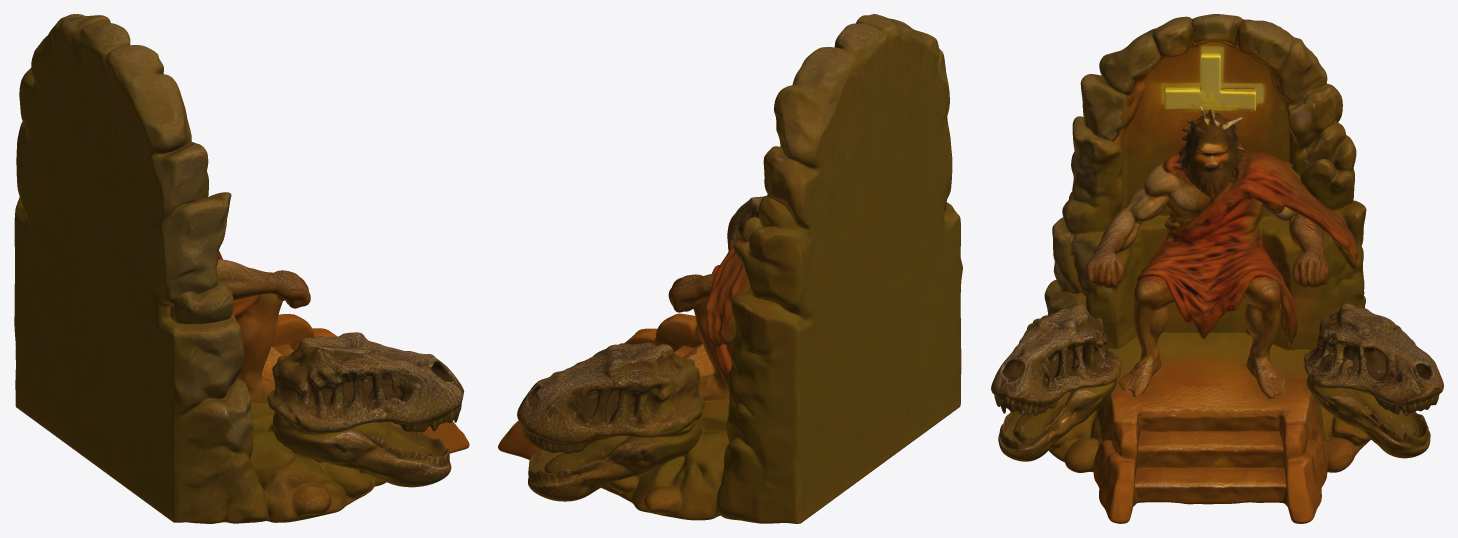
3 renders of one model, left to right at view 1: azimuth 30°, elevation 25°; view 2: azimuth 150°, elevation 25°; view 3: azimuth 270°, elevation 25°, orthographic. The views are drawn at different scales.
Visible parts, largest first — view 1: tripo_node_985c3334-0a03-401f-9598-69cdbb569154; view 2: tripo_node_985c3334-0a03-401f-9598-69cdbb569154; view 3: tripo_node_985c3334-0a03-401f-9598-69cdbb569154.
Boxes of the visible parts, bbox=[...] form: tripo_node_985c3334-0a03-401f-9598-69cdbb569154: bbox=[14, 14, 469, 523]; tripo_node_985c3334-0a03-401f-9598-69cdbb569154: bbox=[498, 14, 962, 523]; tripo_node_985c3334-0a03-401f-9598-69cdbb569154: bbox=[991, 14, 1443, 523].
Bounding box in the file's own units: 0.6984 × 0.9389 × 1.
1 material, 1 textured.
